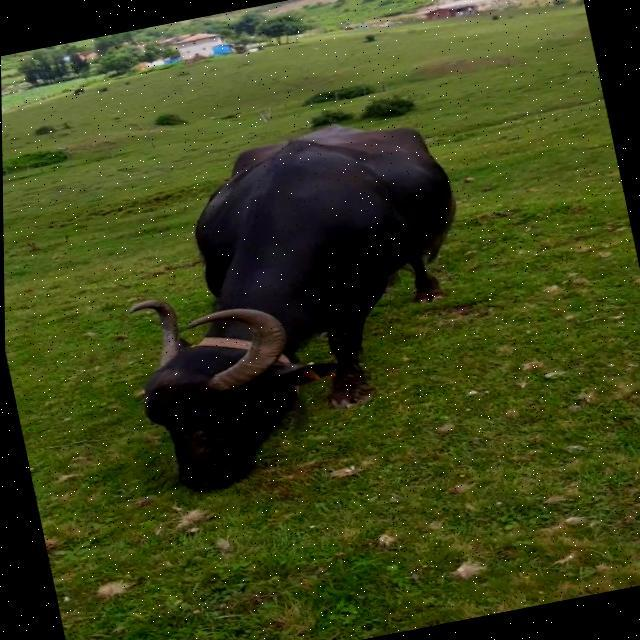Buffalo: (91, 102, 505, 500)
